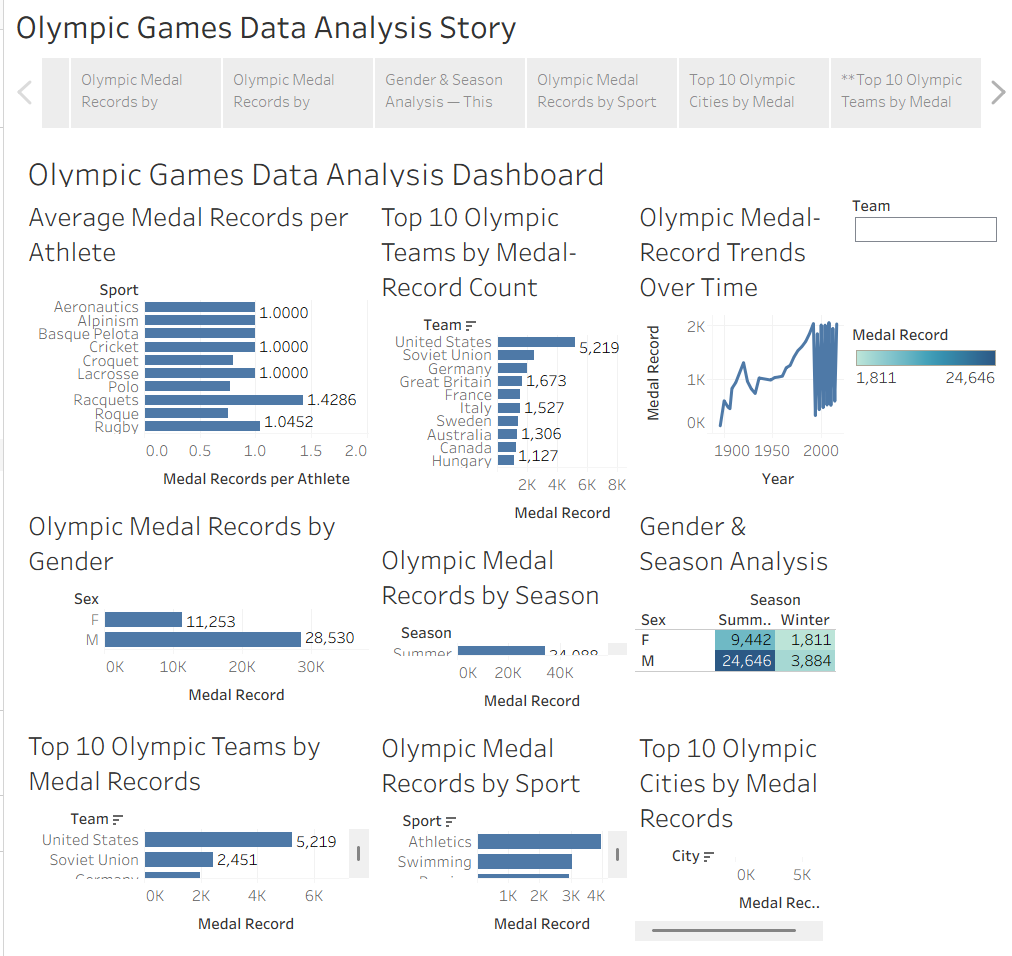

Layout of this report page (visuals, bound fields, positions):
{"tool":"tableau","page":{"name":"Olympic Games Data Analysis Dashboard","canvas":[1000,1000],"units":"permille","ordinal":0},"visuals":[{"type":"title","box":[4.8,8.2,990.3,36.1]},{"type":"worksheet","title":"Average Medal Records per Athlete","mark":"Automatic","rows":["Sport"],"cols":["Calculation_0995942640828418"],"box":[4.8,44.3,381.8,388.2]},{"type":"worksheet","title":"Top 10 Olympic Teams by Medal-Record Count","mark":"Automatic","rows":["Team"],"cols":["Calculation_0995942636539904"],"box":[386.6,44.3,279.9,431.5]},{"type":"worksheet","title":"Olympic Medal-Record Trends Over Time","mark":"Automatic","rows":["Calculation_0995942636539904"],"cols":["Year"],"box":[666.5,44.3,234.6,388.2]},{"type":"filter","title":"Top 10 Olympic Teams by Medal Records","param":"[federated.0dl7chf0q4bfbs12mw7hb03cpaq7].[none:Team:nk]","box":[901.1,44.3,94.1,132.8]},{"type":"legend","title":"Gender & Season Analysis","param":"[federated.0dl7chf0q4bfbs12mw7hb03cpaq7].[sum:Calculation_0995942636539904:qk]","box":[901.1,177.1,94.1,75.2]},{"type":"worksheet","title":"Olympic Medal Records by Gender","mark":"Automatic","rows":["Sex"],"cols":["Calculation_0995942636539904"],"box":[4.8,432.5,381.8,276]},{"type":"worksheet","title":"Gender & Season Analysis","mark":"Automatic","rows":["Sex"],"cols":["Season"],"box":[666.5,432.5,234.6,279.1]},{"type":"worksheet","title":"Olympic Medal Records by Season","mark":"Automatic","rows":["Season"],"cols":["Calculation_0995942636539904"],"box":[386.6,475.8,279.9,236.2]},{"type":"worksheet","title":"Top 10 Olympic Teams by Medal Records","mark":"Automatic","rows":["Team"],"cols":["Calculation_0995942636539904"],"box":[4.8,708.6,381.8,283.2]},{"type":"worksheet","title":"Top 10 Olympic Cities by Medal Records","mark":"Automatic","rows":["City"],"cols":["Calculation_0995942636539904"],"box":[666.5,711.6,234.6,280.1]},{"type":"worksheet","title":"Olympic Medal Records by Sport","mark":"Automatic","rows":["Sport"],"cols":["Calculation_0995942636539904"],"box":[386.6,712,279.9,279.8]}]}

Visuals, with their boxes on the dashboard's canvas, which has no fixed pixel size, in thousandths of its width and height (x1, y1, x2, y2). These are canvas units, not pixel positions in the 1012x956 screenshot, which may show the page scaled, cropped or inside an application window:
title: x1=5 y1=8 x2=995 y2=44
"Average Medal Records per Athlete" worksheet: x1=5 y1=44 x2=387 y2=432
"Top 10 Olympic Teams by Medal-Record Count" worksheet: x1=387 y1=44 x2=666 y2=476
"Olympic Medal-Record Trends Over Time" worksheet: x1=666 y1=44 x2=901 y2=432
"Top 10 Olympic Teams by Medal Records" filter: x1=901 y1=44 x2=995 y2=177
"Gender & Season Analysis" legend: x1=901 y1=177 x2=995 y2=252
"Olympic Medal Records by Gender" worksheet: x1=5 y1=432 x2=387 y2=708
"Gender & Season Analysis" worksheet: x1=666 y1=432 x2=901 y2=712
"Olympic Medal Records by Season" worksheet: x1=387 y1=476 x2=666 y2=712
"Top 10 Olympic Teams by Medal Records" worksheet: x1=5 y1=709 x2=387 y2=992
"Top 10 Olympic Cities by Medal Records" worksheet: x1=666 y1=712 x2=901 y2=992
"Olympic Medal Records by Sport" worksheet: x1=387 y1=712 x2=666 y2=992
